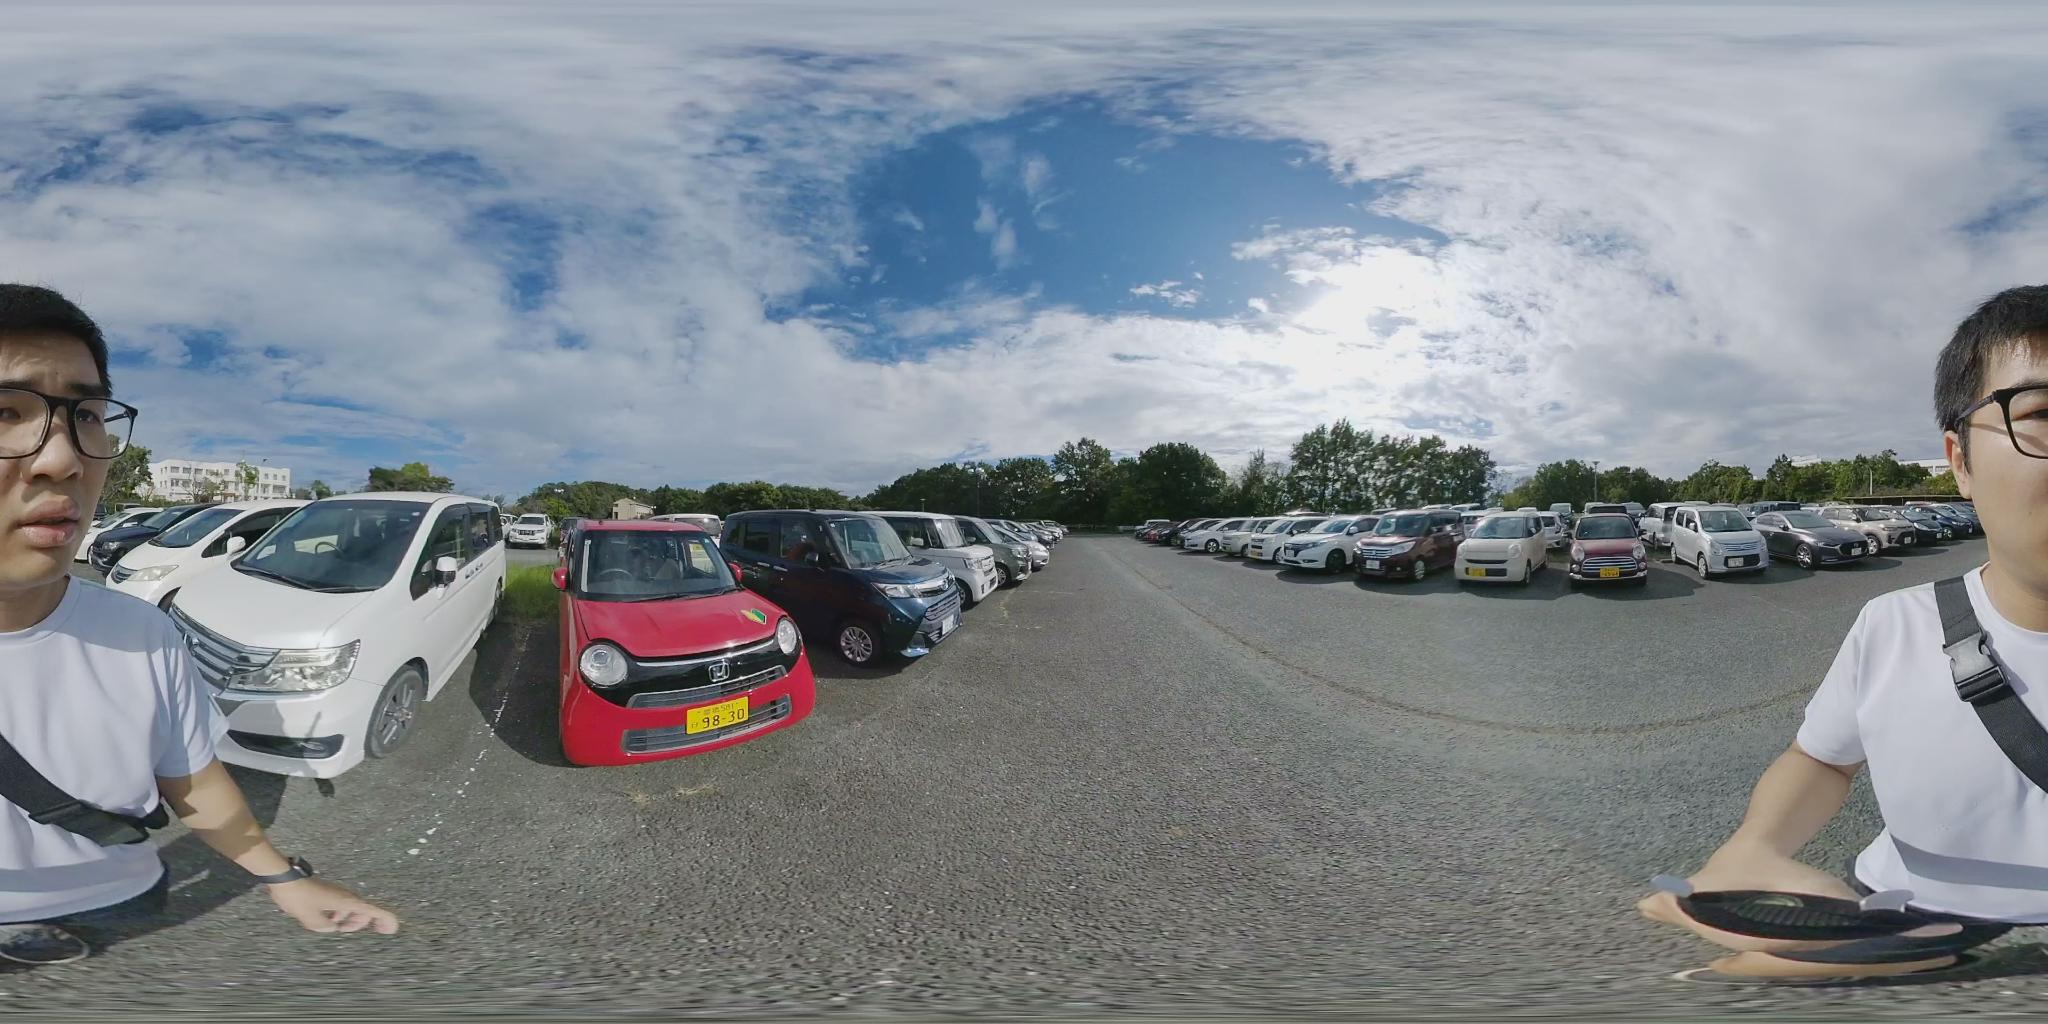car: (166, 495, 508, 777), (558, 519, 810, 743), (711, 512, 981, 670), (95, 502, 312, 586), (859, 515, 1023, 600), (1450, 512, 1570, 584), (1353, 515, 1472, 580), (1752, 509, 1886, 567), (1660, 507, 1775, 573), (1562, 511, 1647, 581), (1260, 515, 1365, 571), (1838, 509, 1929, 552), (1887, 507, 1980, 547), (1192, 516, 1288, 554), (505, 517, 554, 549), (1138, 521, 1183, 545)
